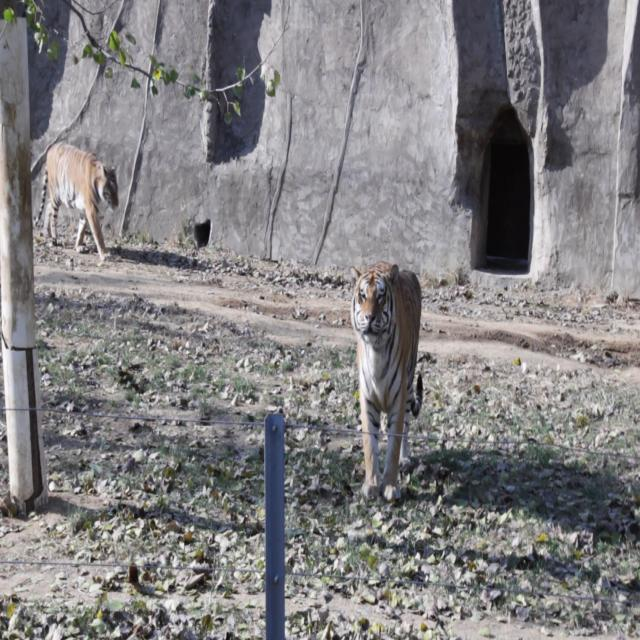Tiger: (339, 225, 432, 526), (31, 129, 127, 270)
